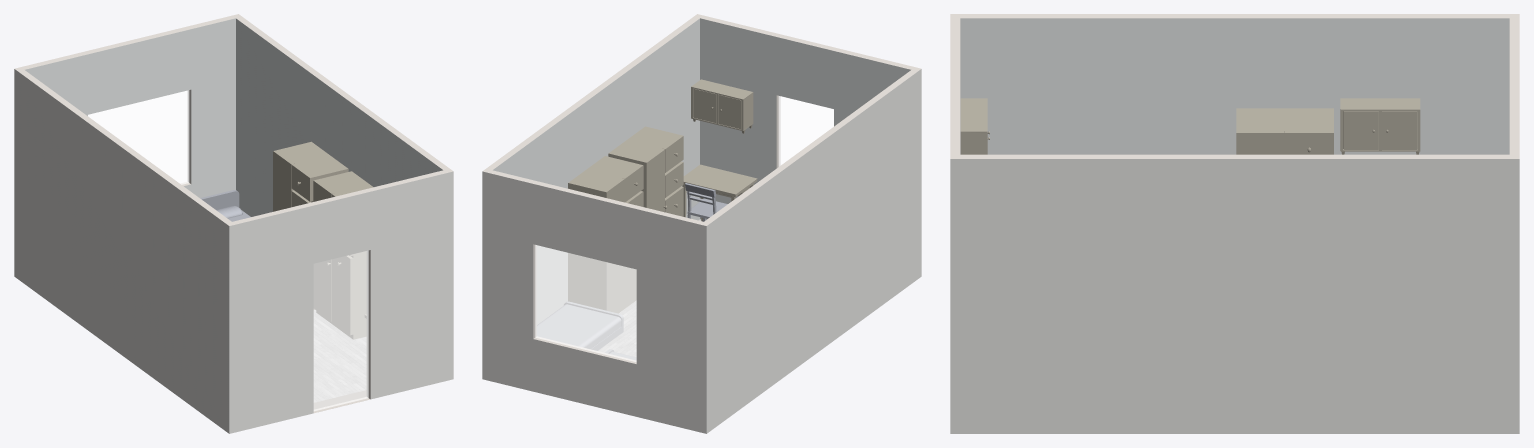
File: 3bedflat.glb
3 renders of one model, left to right at view 1: azimuth 30°, elevation 25°; view 2: azimuth 150°, elevation 25°; view 3: azimuth 270°, elevation 25°, orthographic. The views are drawn at different scales.
Parts seen in each view (by area): view 1: wall_0.001, wall_1.001, wall_2, wall_3, door_0, door_0.001, window_0, window_0.001, storage3.002, floor_Bedroom_0, storage3.001, wall_2.002 (+5 smaller); view 2: wall_0.001, wall_3.001, wall_2, wall_1, window_0, window_0.001, storage3.001, storage3.002, bed0, storage2.002, door_0, door_0.001 (+8 smaller); view 3: wall_2.001, wall_0, storage3, storage2.001, wall_2.002, wall_0.002, storage2, wall_1.002, wall_3.002.
Boxes of the visible parts, bbox=[...] form: wall_0.001: bbox=[14, 69, 229, 433]; wall_1.001: bbox=[229, 171, 453, 433]; wall_2: bbox=[236, 18, 442, 216]; wall_3: bbox=[25, 18, 235, 197]; door_0: bbox=[314, 251, 368, 410]; door_0.001: bbox=[314, 251, 368, 410]; window_0: bbox=[88, 90, 188, 184]; window_0.001: bbox=[88, 90, 188, 184]; storage3.002: bbox=[313, 171, 373, 339]; floor_Bedroom_0: bbox=[314, 310, 366, 402]; storage3.001: bbox=[273, 141, 348, 309]; wall_2.002: bbox=[236, 14, 452, 171]; wall_0.001: bbox=[706, 69, 921, 433]; wall_3.001: bbox=[482, 171, 706, 433]; wall_2: bbox=[493, 18, 699, 324]; wall_1: bbox=[700, 18, 910, 219]; window_0: bbox=[535, 245, 636, 361]; window_0.001: bbox=[535, 245, 636, 361]; storage3.001: bbox=[568, 156, 643, 313]; storage3.002: bbox=[608, 126, 683, 216]; bed0: bbox=[537, 301, 623, 350]; storage2.002: bbox=[691, 79, 753, 133]; door_0: bbox=[779, 96, 833, 166]; door_0.001: bbox=[779, 96, 833, 165]; wall_2.001: bbox=[950, 159, 1519, 433]; wall_0: bbox=[960, 18, 1509, 154]; storage3: bbox=[1236, 108, 1333, 154]; storage2.001: bbox=[1340, 98, 1420, 154]; wall_2.002: bbox=[950, 154, 1519, 158]; wall_0.002: bbox=[951, 14, 1518, 18]; storage2: bbox=[960, 98, 989, 154]; wall_1.002: bbox=[950, 14, 960, 158]; wall_3.002: bbox=[1509, 14, 1519, 158].
Bounding box in the file's own units: 3.47 × 3.07 × 5.75.
27 materials, 1 textured.
